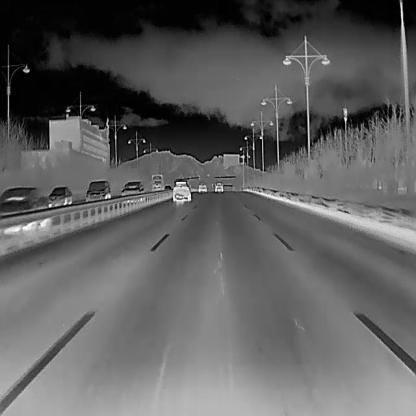car: (0, 185, 43, 216), (85, 179, 111, 200), (48, 186, 72, 207), (172, 180, 191, 203), (120, 180, 144, 195), (149, 173, 163, 193), (197, 182, 208, 193), (213, 182, 223, 192), (164, 184, 171, 190)
